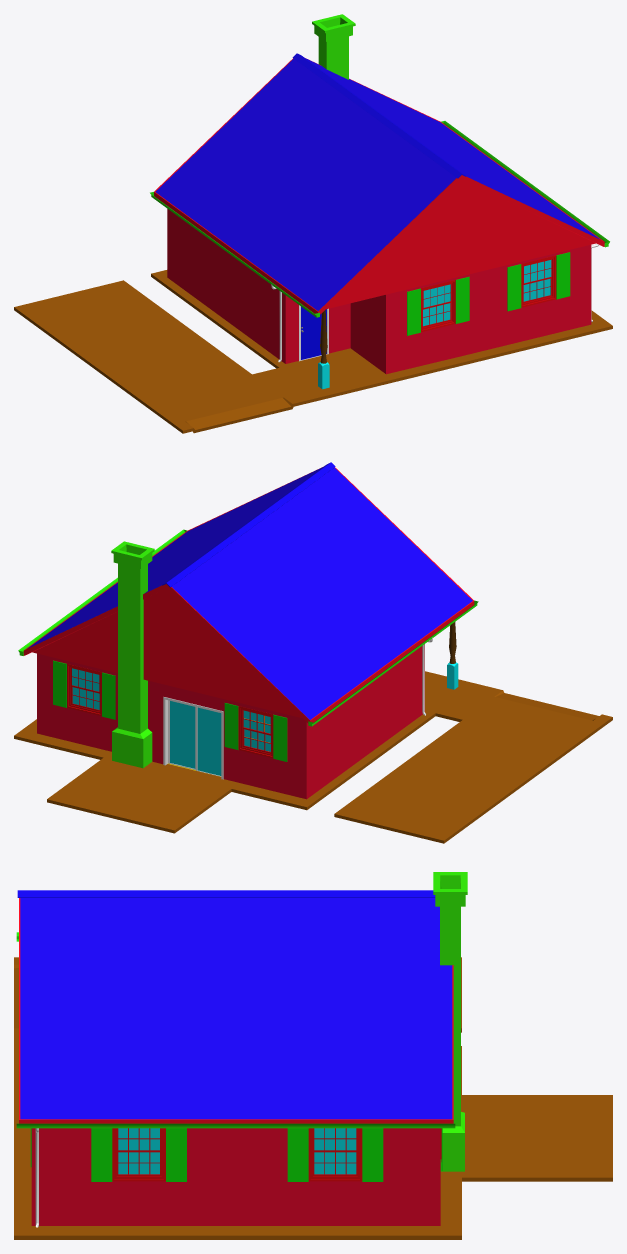
The model's file is House_Single_Flat_Unity.fbx.
3 renders of one model, top to bottom at view 1: azimuth 30°, elevation 25°; view 2: azimuth 150°, elevation 25°; view 3: azimuth 270°, elevation 25°, orthographic. The views are drawn at different scales.
Visible parts, largest first — view 1: Room_004.001, Room_000.001, Room_000.002, Room_000.006, Room_000.000, Window_narrow_000.004, Window_narrow_000.005, Room_000.005, Fireplace, Door_main_004, Room_004; view 2: Room_004.001, Room_000.001, Room_000.009, Room_000.006, Fireplace, Window_narrow_000.001, Window_narrow_000.000, DoorSlide_glass_R, DoorSlide_glass_R_001, Door_slide.001, Room_004; view 3: Room_004.001, Room_000.010, Room_000.001, Fireplace, Window_narrow_000.002, Window_narrow_000.003, windows_mergedObject.005, windows_mergedObject.006, windows_mergedObject.008, windows_mergedObject.007.
Part boxes in pixels (x1=…): Room_004.001: x1=150, y1=53, x2=609, y2=317; Room_000.001: x1=14, y1=270, x2=612, y2=433; Room_000.002: x1=386, y1=244, x2=591, y2=374; Room_000.006: x1=167, y1=209, x2=285, y2=363; Room_000.000: x1=350, y1=295, x2=385, y2=373; Window_narrow_000.004: x1=507, y1=252, x2=570, y2=311; Window_narrow_000.005: x1=407, y1=276, x2=469, y2=335; Room_000.005: x1=285, y1=295, x2=350, y2=363; Fireplace: x1=312, y1=14, x2=355, y2=79; Door_main_004: x1=301, y1=306, x2=326, y2=359; Room_004: x1=318, y1=309, x2=329, y2=389; Room_004.001: x1=18, y1=462, x2=478, y2=726; Room_000.001: x1=14, y1=671, x2=612, y2=843; Room_000.009: x1=37, y1=653, x2=306, y2=799; Room_000.006: x1=306, y1=644, x2=424, y2=798; Fireplace: x1=111, y1=541, x2=154, y2=768; Window_narrow_000.001: x1=224, y1=703, x2=287, y2=761; Window_narrow_000.000: x1=53, y1=660, x2=115, y2=719; DoorSlide_glass_R: x1=170, y1=701, x2=195, y2=768; DoorSlide_glass_R_001: x1=197, y1=707, x2=221, y2=775; Door_slide.001: x1=163, y1=697, x2=223, y2=779; Room_004: x1=447, y1=622, x2=458, y2=689; Room_004.001: x1=16, y1=890, x2=455, y2=1128; Room_000.010: x1=31, y1=1128, x2=440, y2=1225; Room_000.001: x1=14, y1=957, x2=612, y2=1239; Fireplace: x1=433, y1=872, x2=467, y2=1171; Window_narrow_000.002: x1=287, y1=1128, x2=383, y2=1181; Window_narrow_000.003: x1=91, y1=1128, x2=186, y2=1181; windows_mergedObject.005: x1=314, y1=1152, x2=356, y2=1174; windows_mergedObject.006: x1=314, y1=1128, x2=356, y2=1150; windows_mergedObject.008: x1=118, y1=1152, x2=159, y2=1174; windows_mergedObject.007: x1=118, y1=1128, x2=159, y2=1150.
Bounding box in the file's own units: 1576 × 757 × 1434.
